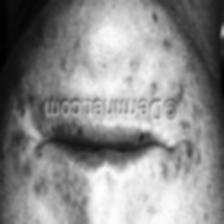Non-Cancerous Skin Condition: (114, 125, 212, 194), (130, 0, 196, 100), (0, 73, 46, 203)
